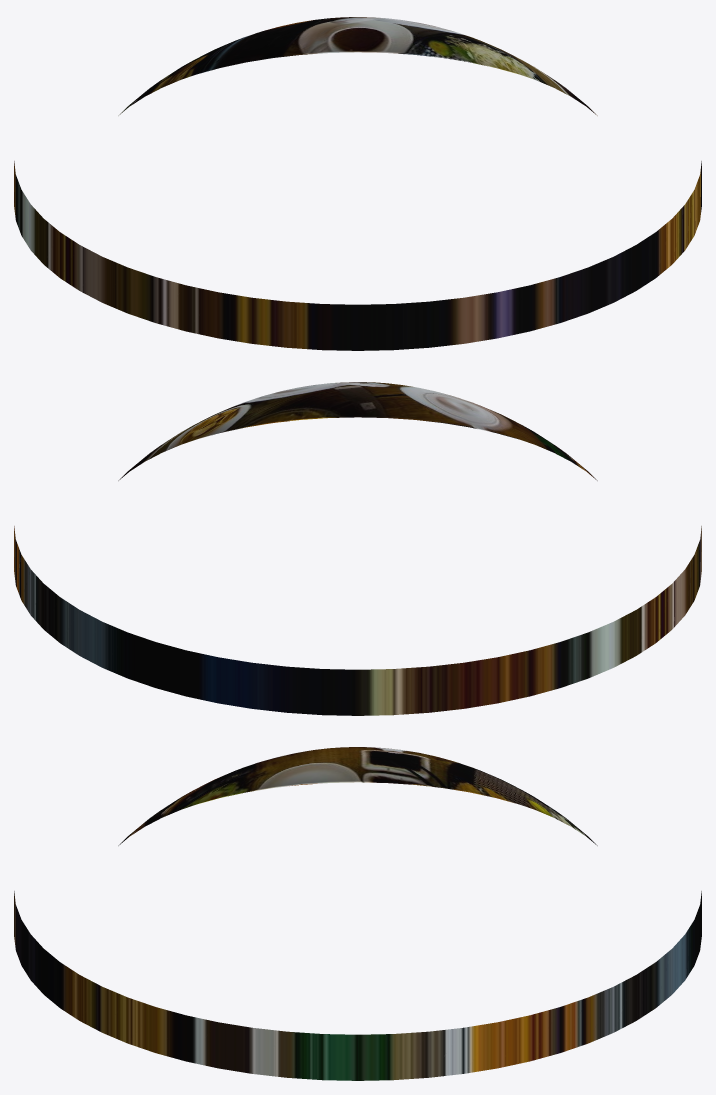
File: chinese.glb
The picture shows the model from 3 angles, top to bottom: view 1: azimuth 30°, elevation 25°; view 2: azimuth 150°, elevation 25°; view 3: azimuth 270°, elevation 25°; orthographic projection.
Parts seen in each view (by area): view 1: chinese; view 2: chinese; view 3: chinese.
Part boxes in pixels (x1,y1,x2,y2): chinese: (14, 17, 701, 350); chinese: (14, 382, 701, 715); chinese: (14, 747, 701, 1080).
Bounding box in the file's own units: 0.27 × 0.069 × 0.27.
Materials: 1 (1 with a texture image).
